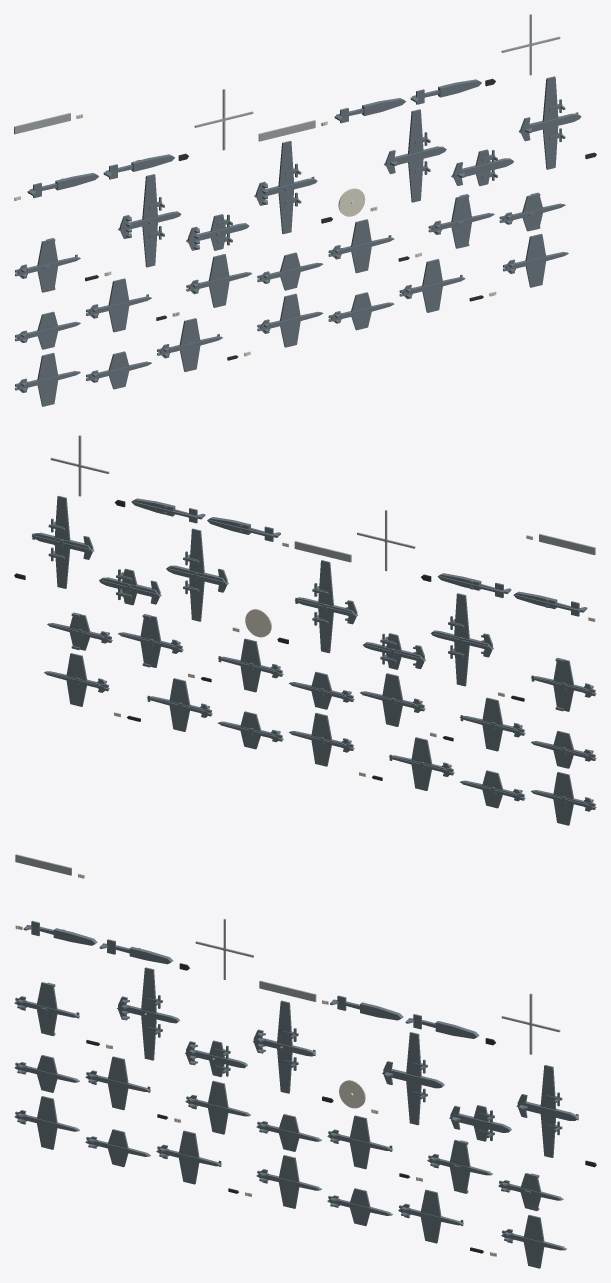
File: CVN69_AirWing_Master.obj
3 renders of one model, top to bottom at view 1: azimuth 30°, elevation 25°; view 2: azimuth 150°, elevation 25°; view 3: azimuth 330°, elevation 25°, orthographic.
Visible parts, largest first — view 1: C2A_VRC40_Spread_Body, C2A_VRC40_Launch_Body, E2C_VAW123_Launch_Body, E2C_VAW123_Spread_Body, EA18G_VAQ130_Launch_Body, FA18E_VFA131_Launch_Body, EA18G_VAQ130_Spread_Body, FA18F_VFA32_Launch_Body, FA18E_VFA105_Launch_Body, FA18E_VFA83_Launch_Body, FA18F_VFA32_Spread_Body, FA18E_VFA131_Spread_Body (+14 smaller); view 2: C2A_VRC40_Spread_Body, C2A_VRC40_Launch_Body, E2C_VAW123_Launch_Body, E2C_VAW123_Spread_Body, EA18G_VAQ130_Launch_Body, EA18G_VAQ130_Spread_Body, FA18F_VFA32_Launch_Body, FA18E_VFA105_Launch_Body, FA18E_VFA83_Launch_Body, FA18E_VFA131_Launch_Body, FA18E_VFA83_Spread_Body, FA18E_VFA131_Spread_Body (+14 smaller); view 3: C2A_VRC40_Spread_Body, E2C_VAW123_Launch_Body, C2A_VRC40_Launch_Body, E2C_VAW123_Spread_Body, EA18G_VAQ130_Launch_Body, EA18G_VAQ130_Spread_Body, FA18F_VFA32_Launch_Body, FA18E_VFA105_Launch_Body, FA18E_VFA83_Launch_Body, FA18E_VFA131_Launch_Body, FA18E_VFA131_Spread_Body, FA18E_VFA83_Spread_Body (+14 smaller).
Boxes of the visible parts, box(x1,y1,x2,y2) form: C2A_VRC40_Spread_Body: box(384, 109, 446, 202); C2A_VRC40_Launch_Body: box(518, 76, 581, 169); E2C_VAW123_Launch_Body: box(254, 141, 317, 234); E2C_VAW123_Spread_Body: box(118, 174, 181, 267); EA18G_VAQ130_Launch_Body: box(15, 238, 80, 292); FA18E_VFA131_Launch_Body: box(328, 219, 394, 273); EA18G_VAQ130_Spread_Body: box(428, 194, 494, 248); FA18F_VFA32_Launch_Body: box(399, 259, 465, 312); FA18E_VFA105_Launch_Body: box(157, 318, 222, 371); FA18E_VFA83_Launch_Body: box(86, 278, 151, 332); FA18F_VFA32_Spread_Body: box(257, 293, 323, 347); FA18E_VFA131_Spread_Body: box(186, 254, 252, 307); C2A_VRC40_Spread_Body: box(166, 528, 228, 621); C2A_VRC40_Launch_Body: box(32, 495, 94, 588); E2C_VAW123_Launch_Body: box(295, 560, 358, 653); E2C_VAW123_Spread_Body: box(431, 593, 493, 686); EA18G_VAQ130_Launch_Body: box(531, 657, 596, 711); EA18G_VAQ130_Spread_Body: box(118, 614, 183, 667); FA18F_VFA32_Launch_Body: box(147, 678, 212, 731); FA18E_VFA105_Launch_Body: box(389, 737, 454, 790); FA18E_VFA83_Launch_Body: box(459, 697, 525, 751); FA18E_VFA131_Launch_Body: box(218, 638, 283, 692); FA18E_VFA83_Spread_Body: box(44, 653, 109, 706); FA18E_VFA131_Spread_Body: box(360, 673, 425, 726); C2A_VRC40_Spread_Body: box(382, 1032, 444, 1125); E2C_VAW123_Launch_Body: box(253, 1000, 315, 1093); C2A_VRC40_Launch_Body: box(516, 1065, 578, 1157); E2C_VAW123_Spread_Body: box(117, 967, 179, 1060); EA18G_VAQ130_Launch_Body: box(14, 982, 79, 1036); EA18G_VAQ130_Spread_Body: box(427, 1139, 492, 1193); FA18F_VFA32_Launch_Body: box(398, 1189, 463, 1243); FA18E_VFA105_Launch_Body: box(156, 1130, 221, 1184); FA18E_VFA83_Launch_Body: box(85, 1056, 150, 1110); FA18E_VFA131_Launch_Body: box(327, 1115, 392, 1169); FA18E_VFA131_Spread_Body: box(185, 1080, 250, 1134); FA18E_VFA83_Spread_Body: box(501, 1214, 566, 1268).
Size of the model in its own units: 235 by 110 by 4.1.
